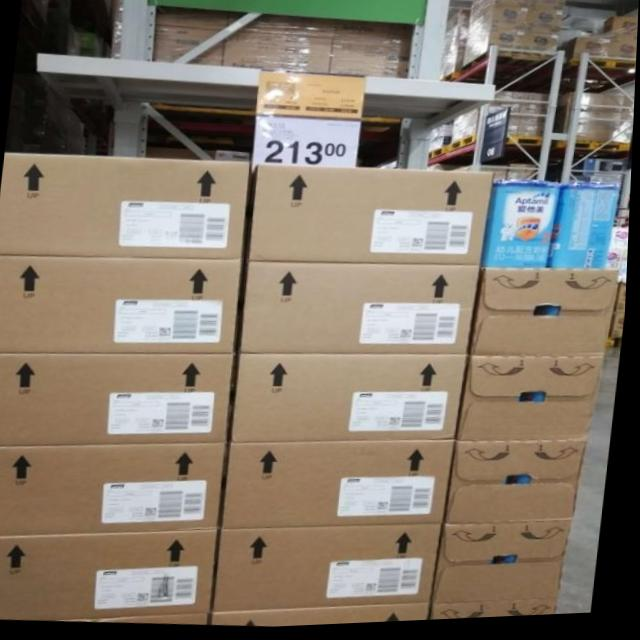box: (0, 151, 251, 259), (245, 168, 497, 270), (0, 255, 246, 357), (240, 264, 482, 360), (0, 352, 238, 446), (0, 444, 232, 534), (228, 360, 471, 445), (0, 530, 223, 619), (223, 446, 459, 530), (219, 530, 448, 615), (472, 272, 621, 362), (459, 360, 605, 446), (448, 445, 589, 527), (439, 525, 576, 607), (217, 608, 433, 628), (434, 604, 564, 624)
